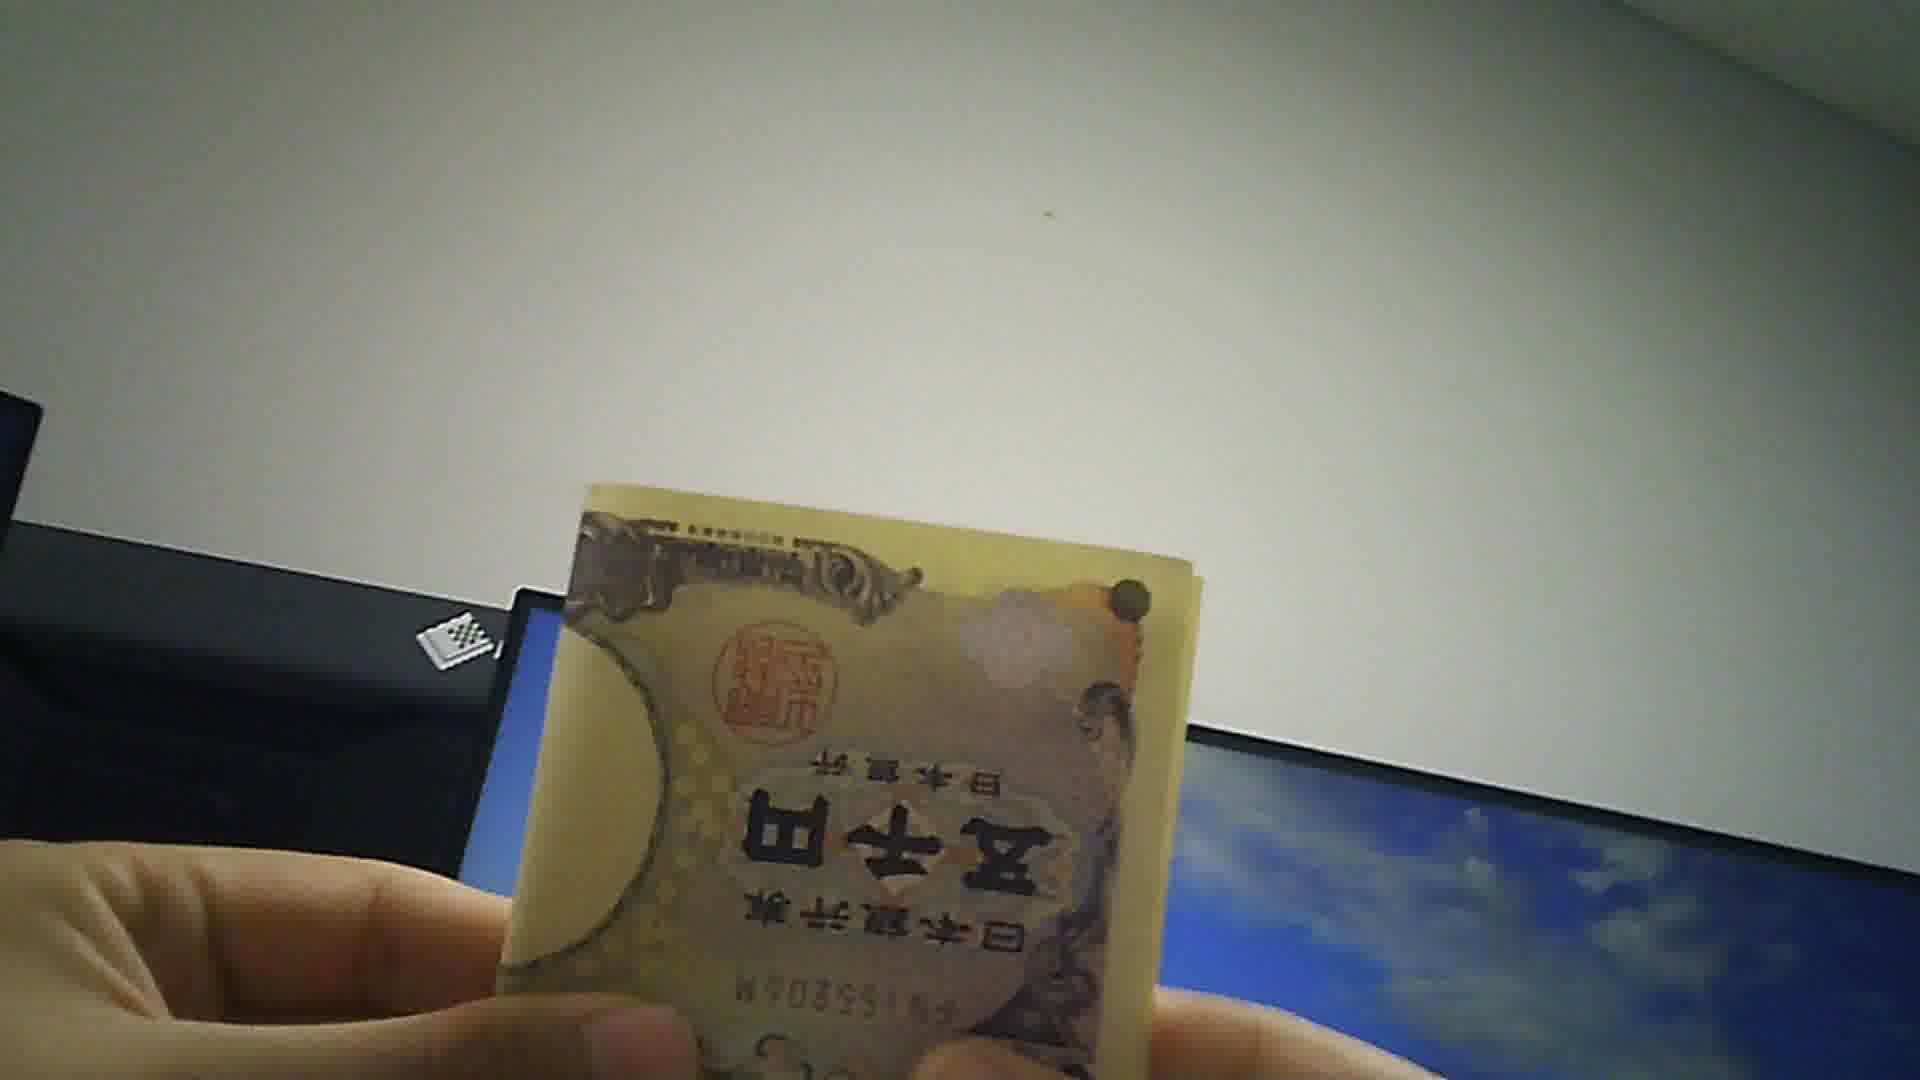5,000 Yen: (501, 460, 1168, 1077)
